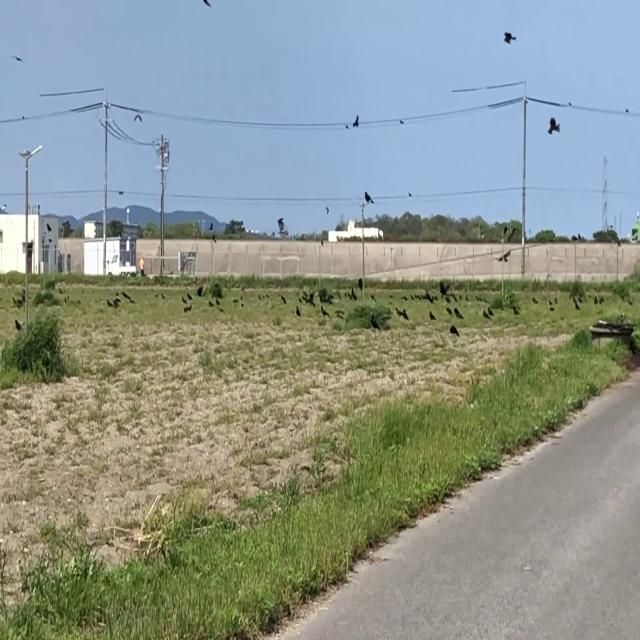bird: (548, 110, 560, 140), (504, 23, 515, 49), (363, 187, 373, 209), (352, 111, 360, 133), (357, 278, 363, 294), (353, 281, 359, 297), (454, 303, 459, 322), (136, 108, 141, 126), (204, 0, 210, 14), (296, 301, 300, 318), (595, 293, 598, 307)
